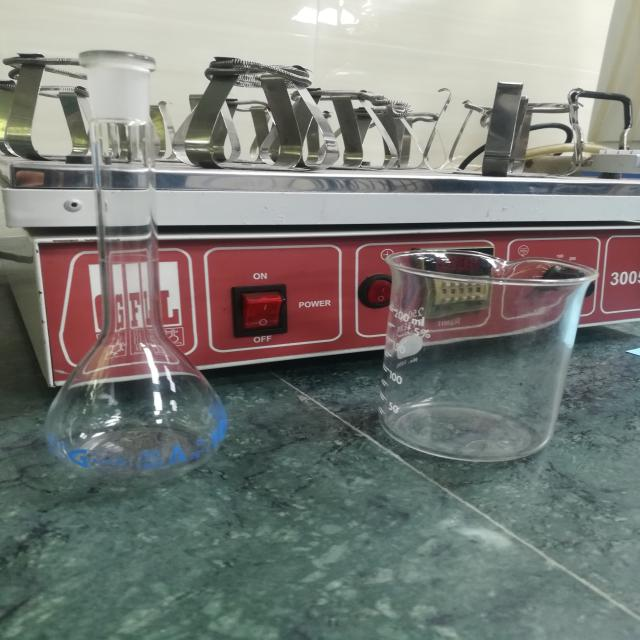Beaker: (342, 221, 600, 496)
Volumetric_Flask: (30, 28, 266, 503)
